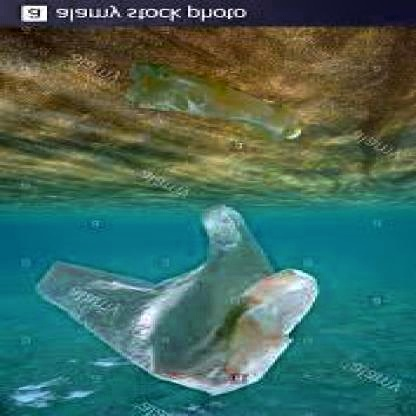pbag: (31, 200, 334, 401)
pbottle: (108, 55, 310, 149)
